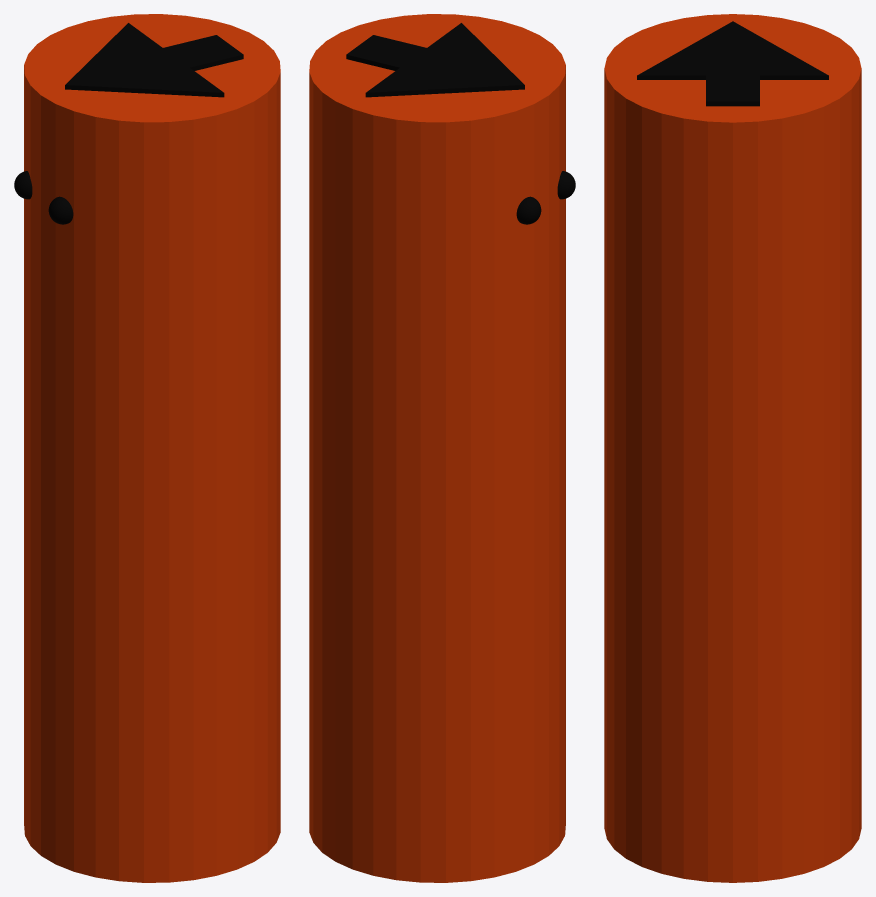
3 views of the same model, side by side, from view 1: azimuth 30°, elevation 25°; view 2: azimuth 150°, elevation 25°; view 3: azimuth 270°, elevation 25° (orthographic).
Visible parts, largest first — view 1: Cylinder_Cylinder_Material.005, Cylinder_Cylinder_SVGMat; view 2: Cylinder_Cylinder_Material.005, Cylinder_Cylinder_SVGMat; view 3: Cylinder_Cylinder_Material.005, Cylinder_Cylinder_SVGMat.
Boxes of the visible parts, x1,y1,x2,y2 form: Cylinder_Cylinder_Material.005: (24,14,280,882); Cylinder_Cylinder_SVGMat: (14,23,243,224); Cylinder_Cylinder_Material.005: (309,14,565,882); Cylinder_Cylinder_SVGMat: (346,23,575,224); Cylinder_Cylinder_Material.005: (604,14,861,882); Cylinder_Cylinder_SVGMat: (637,21,828,106).
Size of the model in its own units: 0.1612 by 0.5117 by 0.1559.
